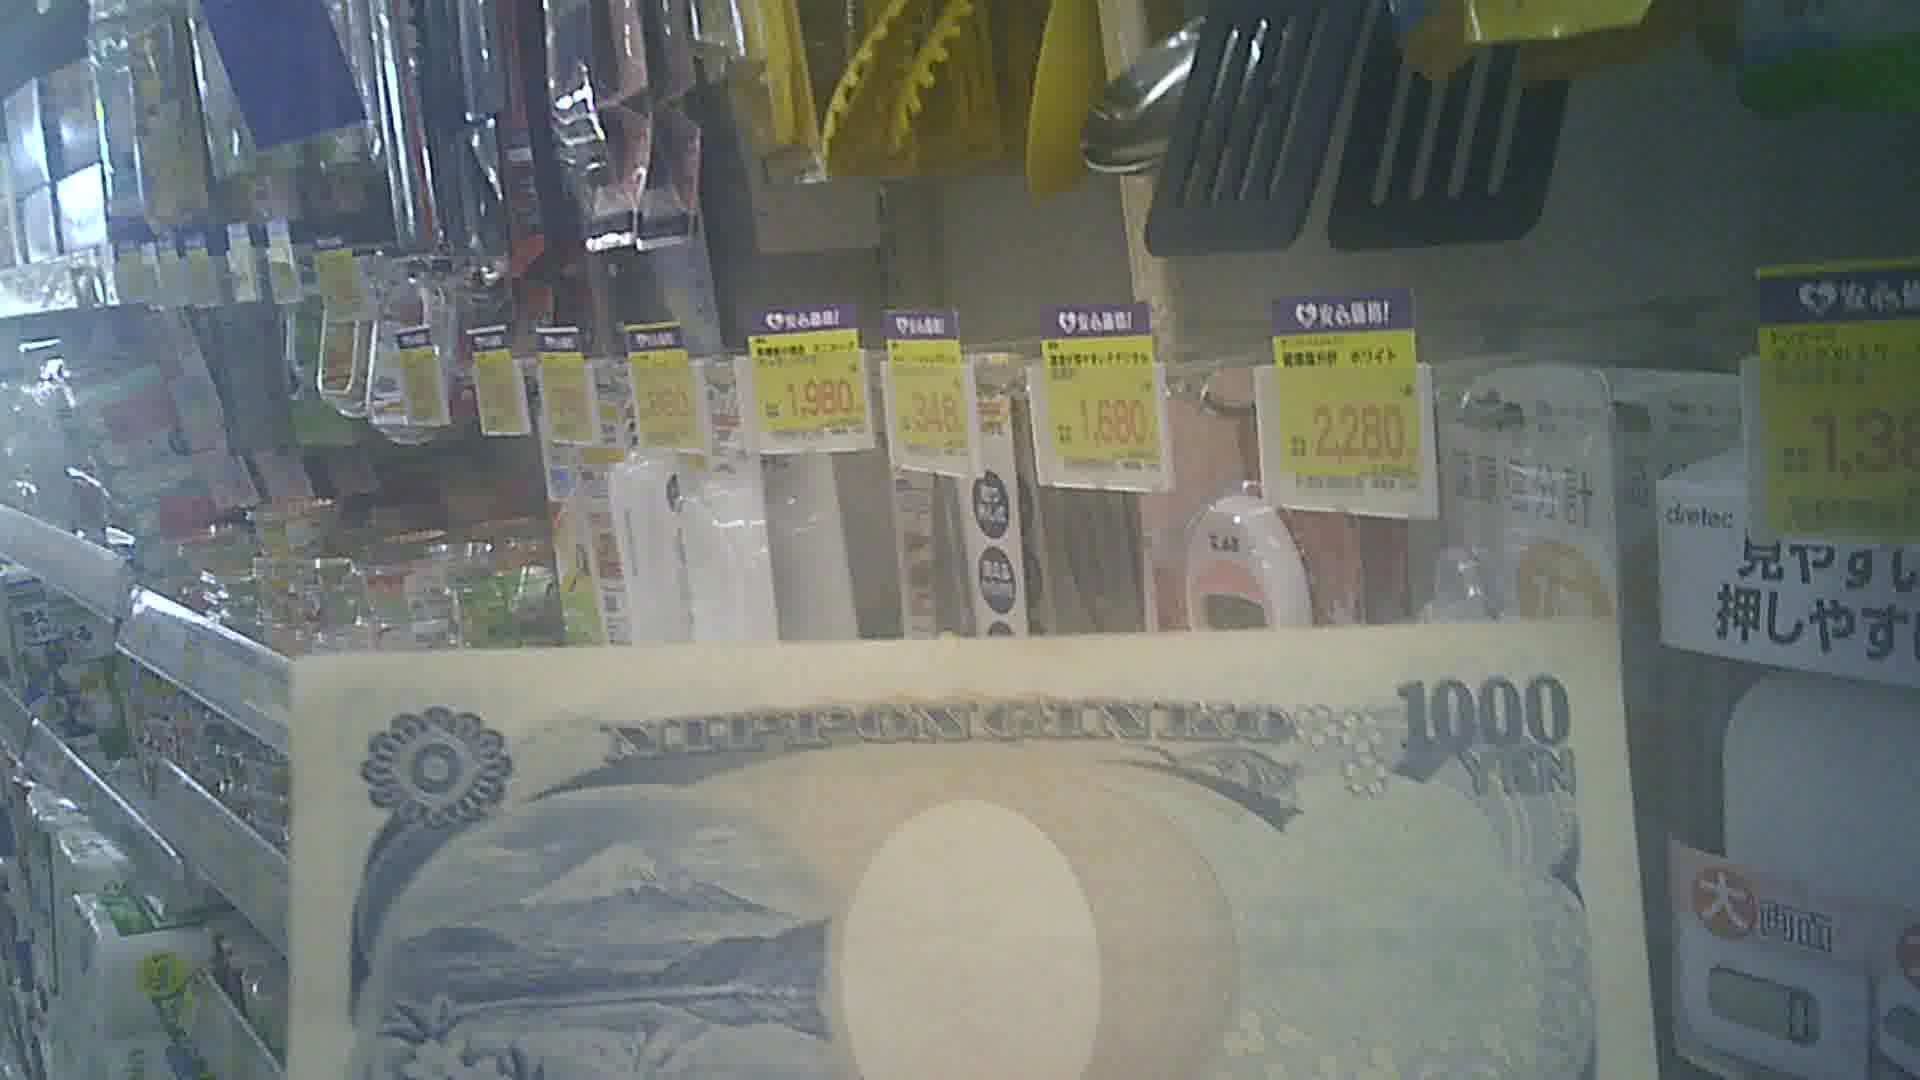1,000 Yen: (291, 633, 1651, 1077)
